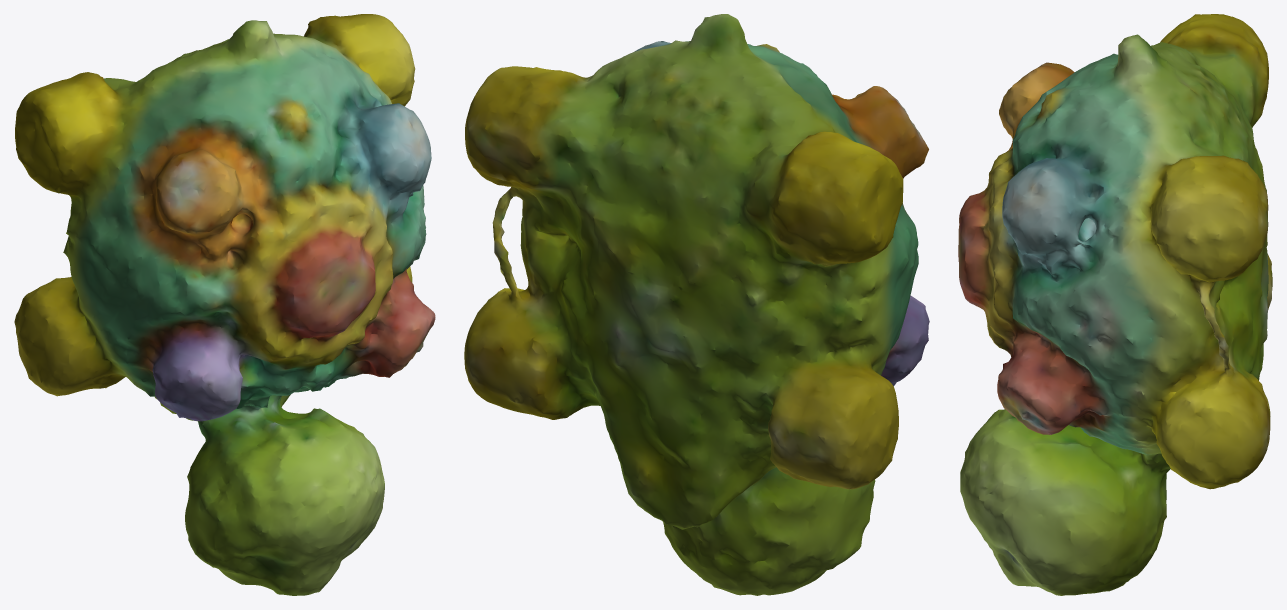
Rendered from turtle.glb.
The picture shows the model from 3 angles, left to right: view 1: azimuth 30°, elevation 25°; view 2: azimuth 150°, elevation 25°; view 3: azimuth 270°, elevation 25°; orthographic projection. The views are drawn at different scales.
Bounding box in the file's own units: 0.7264 × 0.9952 × 0.5174.
